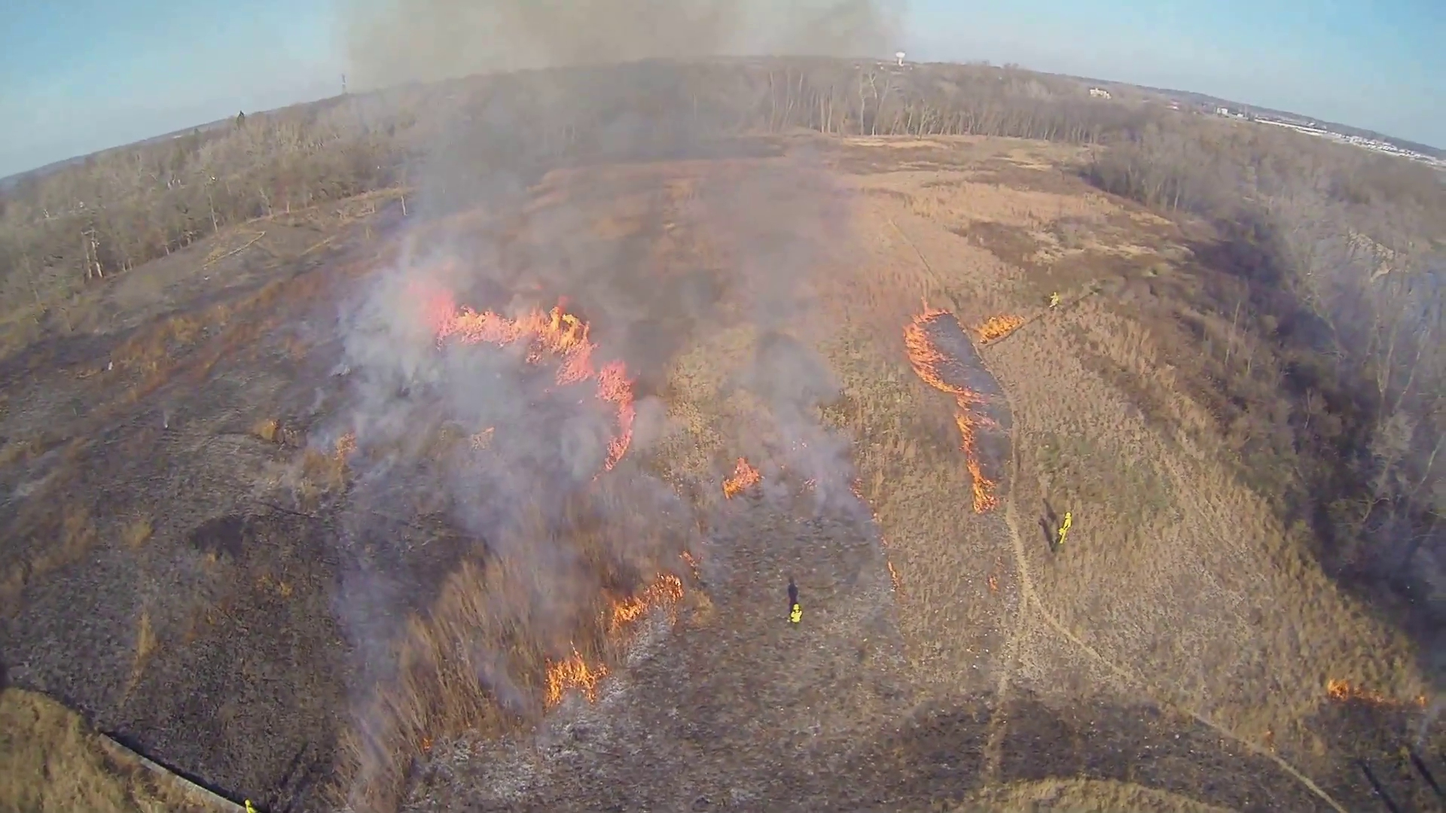forest_fire: (432, 297, 636, 470), (903, 303, 1002, 513), (609, 576, 682, 627), (544, 647, 608, 705), (1326, 678, 1426, 708), (722, 457, 761, 498), (978, 315, 1024, 343)
